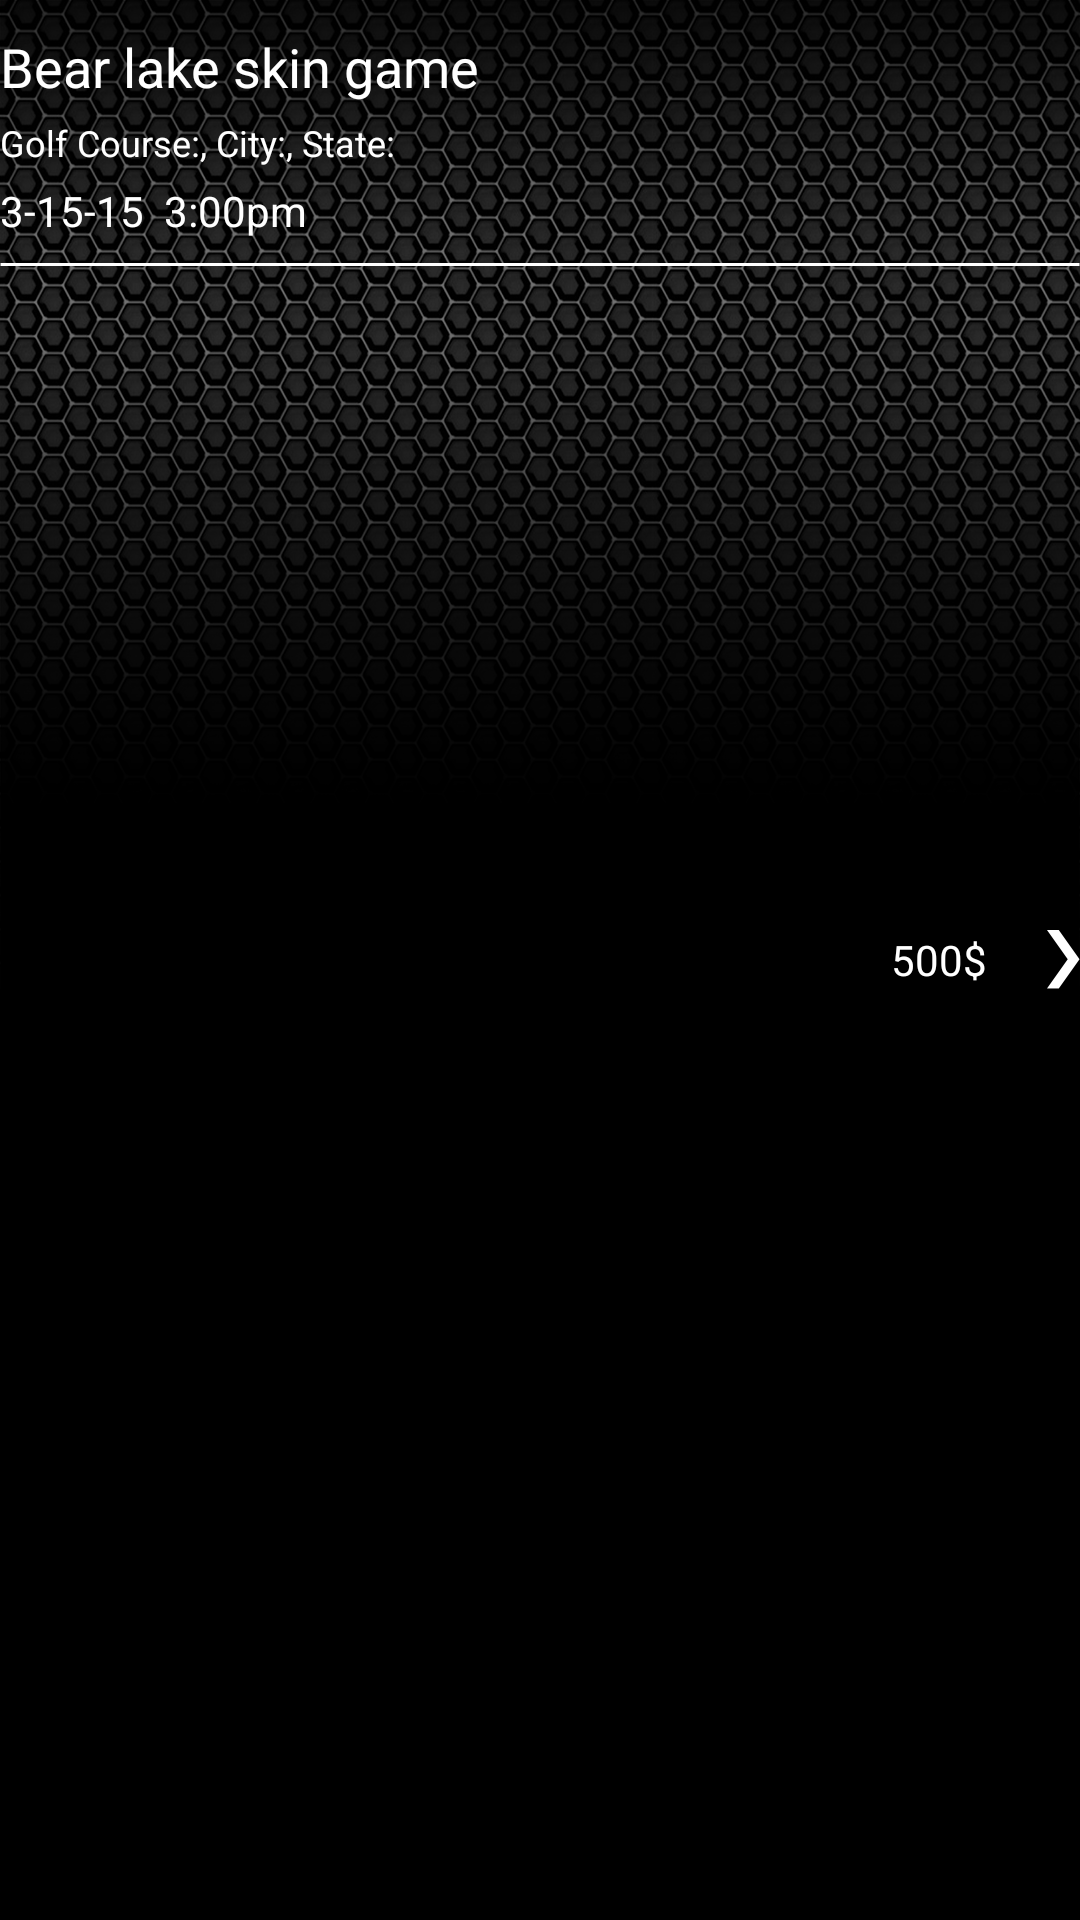

Screen size 1080*1920. Icon name, then its center in pixels as (x=x, y=y):
next: (x=1063, y=959)
